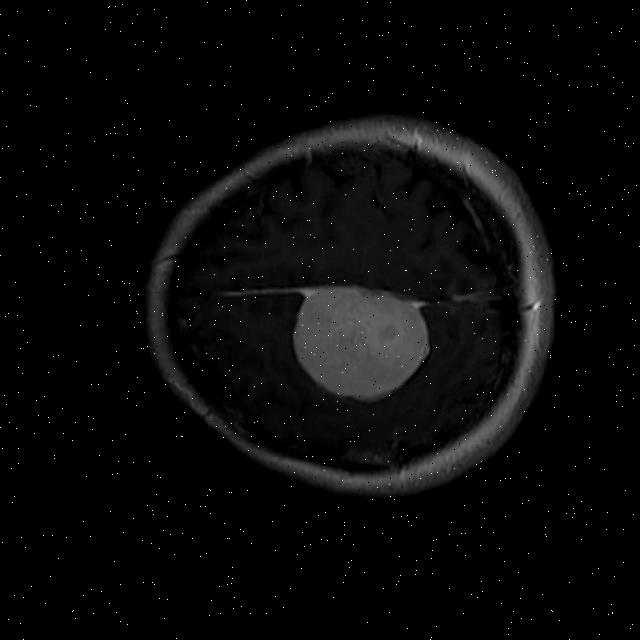Meningioma: (279, 279, 433, 405)
